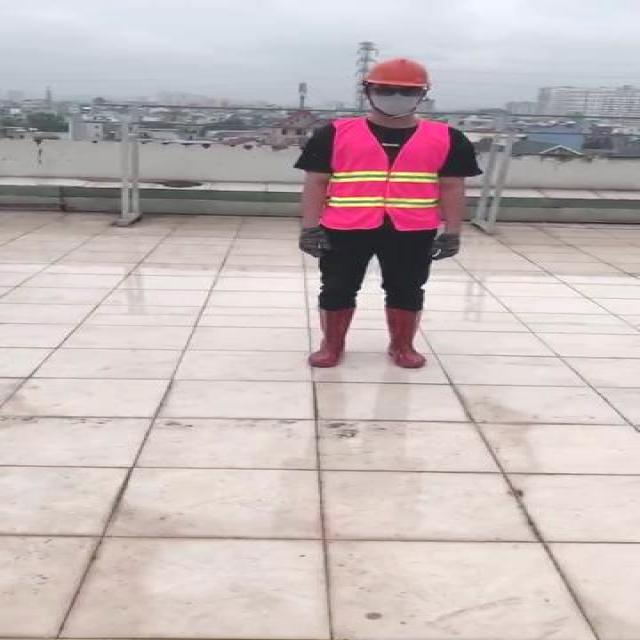boots: (304, 309, 357, 369), (384, 310, 428, 369)
face_mask: (369, 83, 427, 115)
glasses: (371, 83, 433, 98)
hand_glove: (297, 228, 329, 259), (430, 236, 462, 260)
head_helmet: (364, 57, 436, 89)
person: (281, 56, 483, 374)
vest: (322, 119, 450, 232)
